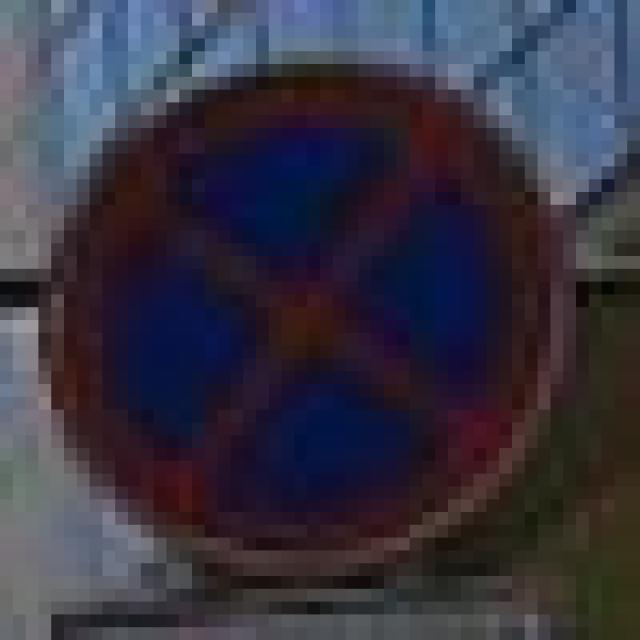no stopping or standing: (28, 39, 583, 580)
